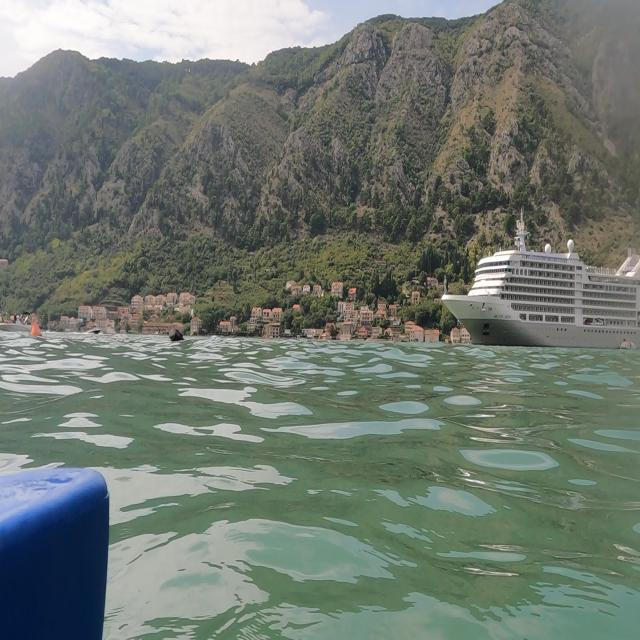boat: (439, 205, 639, 352)
buoy: (28, 311, 43, 347), (165, 324, 189, 346)
